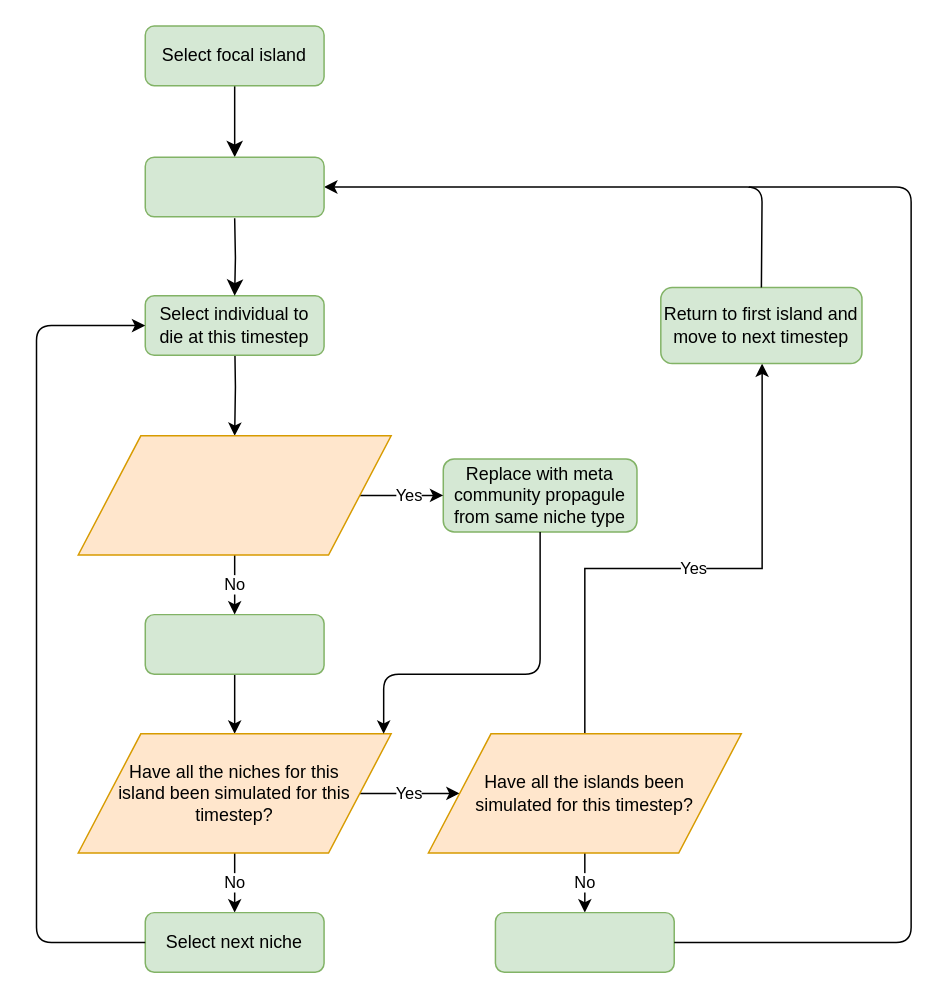
Image size: 939x998. Some labels were removed from this diagram. Each missing label, with the centre of its shape:
"Does a migration event occur at this timestep?" goes at (x=234, y=494).
"Replace with local propagule" goes at (x=234, y=643).
"Select focal niche" goes at (x=234, y=186).
"Select next island" goes at (x=584, y=941).
